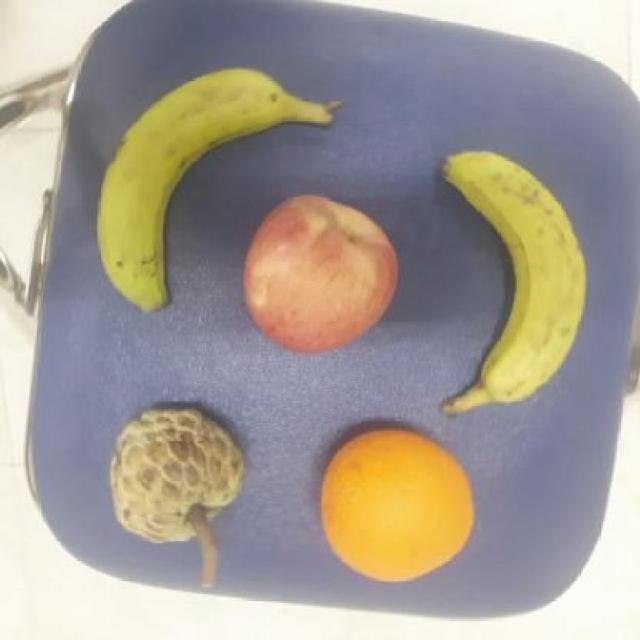apple: (242, 191, 402, 360)
banana: (93, 66, 345, 316), (442, 153, 589, 421)
oren: (318, 428, 480, 583)
sugar apple: (105, 404, 250, 548)
